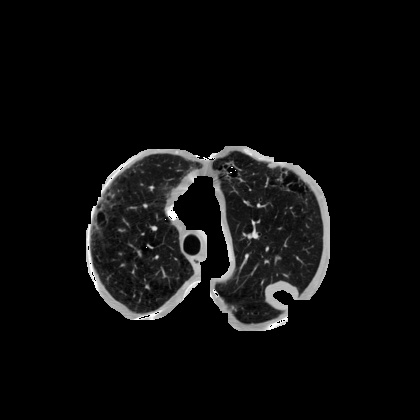PN: (264, 279, 296, 311)
